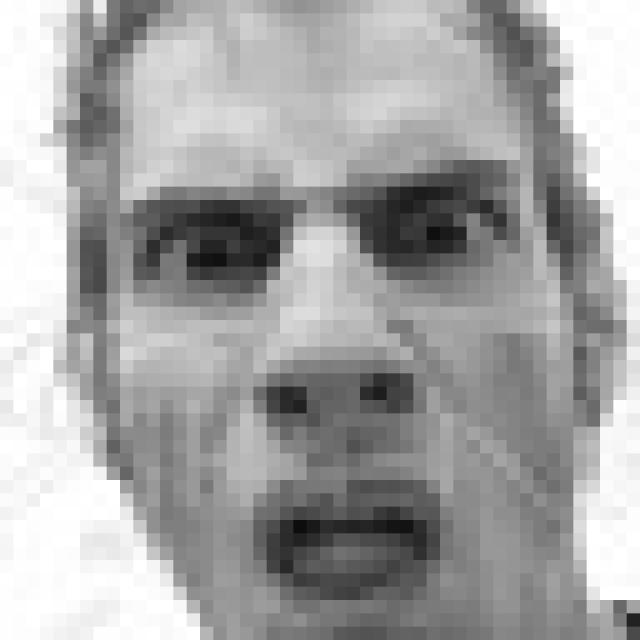disgust: (118, 153, 528, 618)
